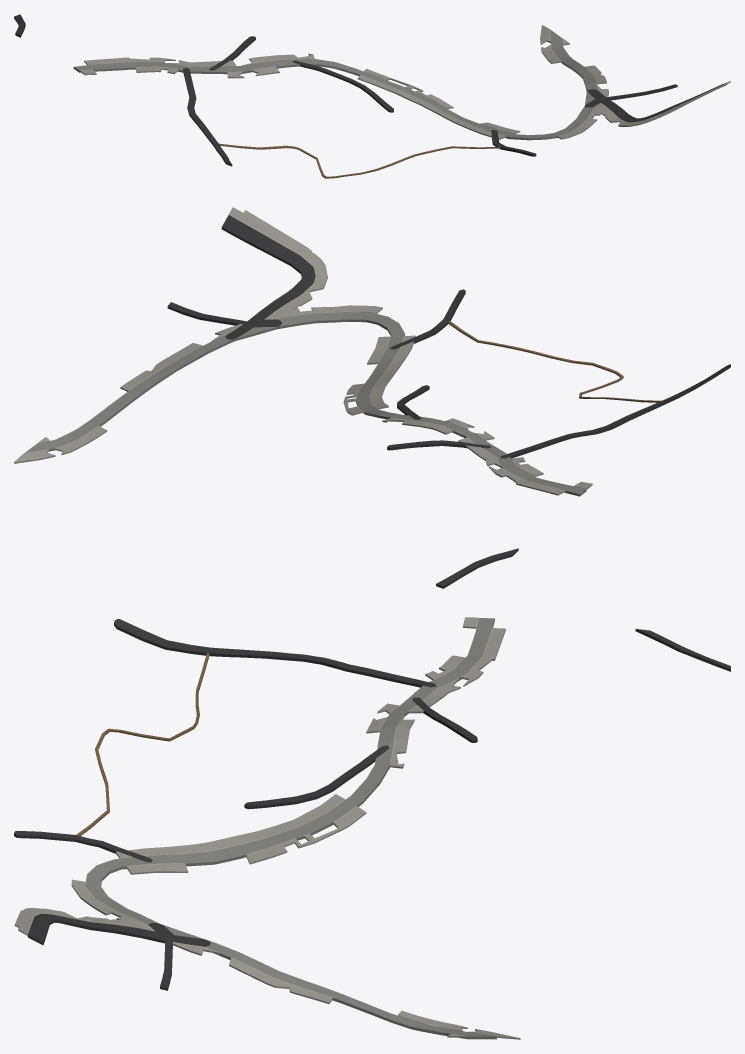
The picture shows the model from 3 angles, top to bottom: view 1: azimuth 30°, elevation 25°; view 2: azimuth 150°, elevation 25°; view 3: azimuth 270°, elevation 25°; orthographic projection. The views are drawn at different scales.
Size of the model in its own units: 293 by 53.04 by 286.
